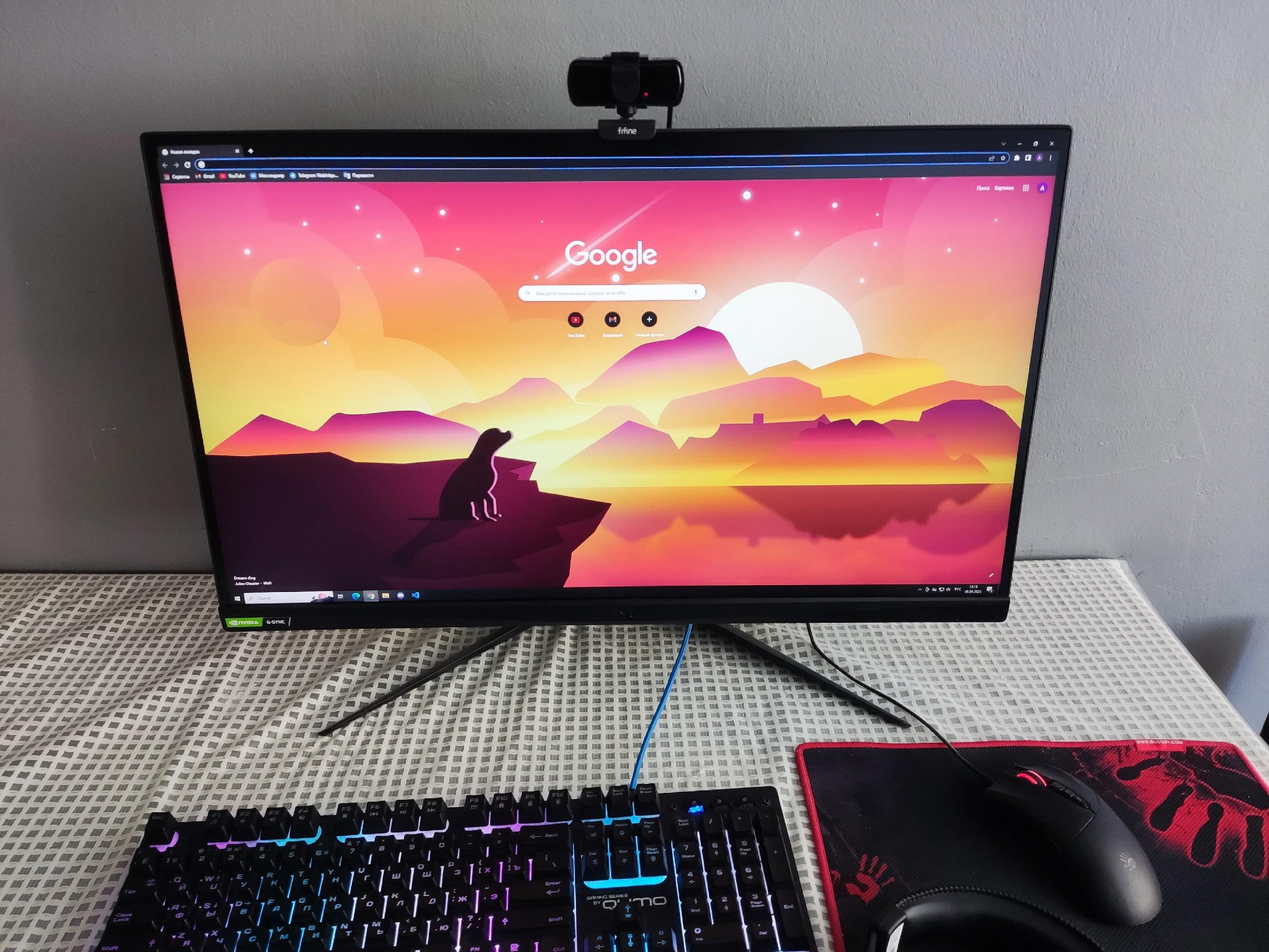monitor: (135, 121, 1084, 646)
